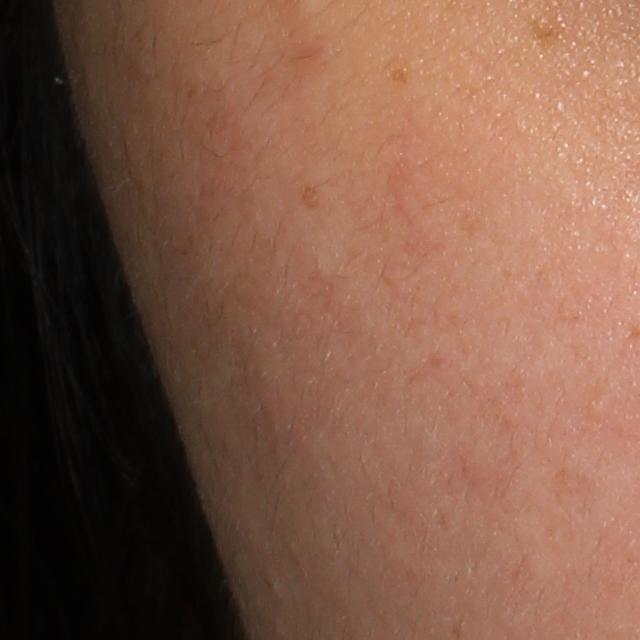melasma: (528, 14, 564, 44), (386, 65, 412, 87)
